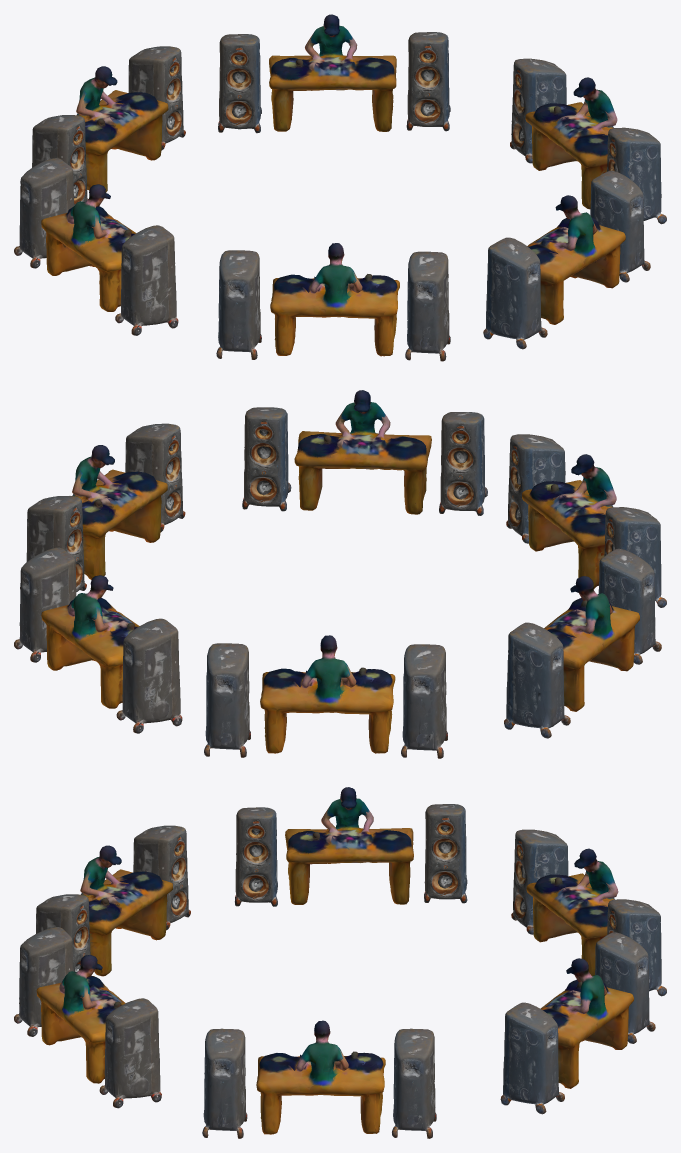
File: reverseboilerroom3.glb
The picture shows the model from 3 angles, top to bottom: view 1: azimuth 30°, elevation 25°; view 2: azimuth 150°, elevation 25°; view 3: azimuth 270°, elevation 25°; orthographic projection. The views are drawn at different scales.
Visible parts, largest first — view 1: file1.002, file1.014, Mesh1.008; view 2: file1.002, file1.014, Mesh1.008; view 3: file1.002, file1.014, Mesh1.008.
Boxes of the visible parts, box(x1,y1,x2,y2) form: file1.002: box(14, 14, 666, 361); file1.014: box(14, 32, 666, 361); Mesh1.008: box(41, 14, 625, 356); file1.002: box(14, 390, 666, 758); file1.014: box(14, 407, 666, 758); Mesh1.008: box(41, 390, 639, 753); file1.002: box(14, 787, 666, 1138); file1.014: box(14, 804, 666, 1138); Mesh1.008: box(36, 787, 633, 1134).
Bounding box in the file's own units: 7.31 × 1.43 × 7.79.
2 materials, 2 textured.
